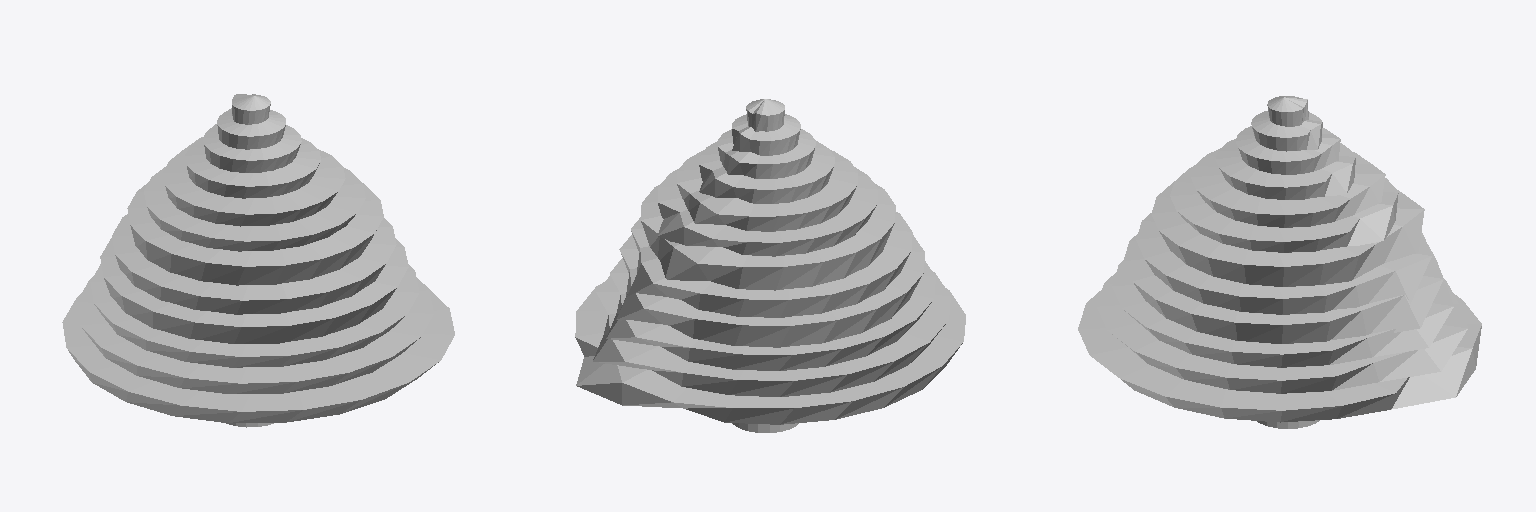
Rendered from tree2.obj.
The picture shows the model from 3 angles: view 1: azimuth 30°, elevation 25°; view 2: azimuth 150°, elevation 25°; view 3: azimuth 270°, elevation 25°; orthographic projection.
Visible parts, largest first — view 1: pCylinder1, pasted__pCylinder1 group, pasted__pasted__pasted__pCylinder1 pasted__pasted__group pasted_, pasted__pasted__pasted__pasted__pasted__pCylinder1 pasted__paste, pasted__pasted__pasted__pasted__pasted__pasted__pasted__pasted__, pasted__pasted__pasted__pasted__pCylinder1 pasted__pasted__paste, pasted__pasted__pCylinder1 pasted__group group1, pasted__pasted__pasted__pasted__pasted__pasted__pCylinder1 paste, pasted__pasted__pasted__pasted__pasted__pasted__pasted__pCylinde; view 2: pCylinder1, pasted__pCylinder1 group, pasted__pasted__pasted__pCylinder1 pasted__pasted__group pasted_, pasted__pasted__pasted__pasted__pasted__pasted__pasted__pasted__, pasted__pasted__pasted__pasted__pasted__pCylinder1 pasted__paste, pasted__pasted__pasted__pasted__pCylinder1 pasted__pasted__paste, pasted__pasted__pCylinder1 pasted__group group1, pasted__pasted__pasted__pasted__pasted__pasted__pCylinder1 paste, pasted__pasted__pasted__pasted__pasted__pasted__pasted__pCylinde; view 3: pCylinder1, pasted__pCylinder1 group, pasted__pasted__pasted__pCylinder1 pasted__pasted__group pasted_, pasted__pasted__pasted__pasted__pasted__pCylinder1 pasted__paste, pasted__pasted__pasted__pasted__pasted__pasted__pasted__pasted__, pasted__pasted__pasted__pasted__pCylinder1 pasted__pasted__paste, pasted__pasted__pCylinder1 pasted__group group1, pasted__pasted__pasted__pasted__pasted__pasted__pCylinder1 paste, pasted__pasted__pasted__pasted__pasted__pasted__pasted__pCylinde.
Boxes of the visible parts, x1,y1,x2,y2 form: pCylinder1: [62, 284, 454, 422]; pasted__pCylinder1 group: [76, 277, 433, 393]; pasted__pasted__pasted__pCylinder1 pasted__pasted__group pasted_: [100, 238, 408, 343]; pasted__pasted__pasted__pasted__pasted__pCylinder1 pasted__paste: [127, 182, 383, 285]; pasted__pasted__pasted__pasted__pasted__pasted__pasted__pasted__: [185, 94, 320, 198]; pasted__pasted__pasted__pasted__pCylinder1 pasted__pasted__paste: [112, 214, 396, 314]; pasted__pasted__pCylinder1 pasted__group group1: [90, 264, 419, 367]; pasted__pasted__pasted__pasted__pasted__pasted__pCylinder1 paste: [144, 167, 365, 251]; pasted__pasted__pasted__pasted__pasted__pasted__pasted__pCylinde: [163, 137, 345, 226]; pCylinder1: [575, 282, 965, 424]; pasted__pCylinder1 group: [593, 271, 950, 396]; pasted__pasted__pasted__pCylinder1 pasted__pasted__group pasted_: [616, 235, 924, 347]; pasted__pasted__pasted__pasted__pasted__pasted__pasted__pasted__: [699, 99, 834, 203]; pasted__pasted__pasted__pasted__pasted__pCylinder1 pasted__paste: [641, 182, 895, 290]; pasted__pasted__pasted__pasted__pCylinder1 pasted__pasted__paste: [627, 212, 912, 317]; pasted__pasted__pCylinder1 pasted__group group1: [606, 258, 935, 370]; pasted__pasted__pasted__pasted__pasted__pasted__pCylinder1 paste: [658, 167, 877, 256]; pasted__pasted__pasted__pasted__pasted__pasted__pasted__pCylinde: [677, 150, 857, 231]; pCylinder1: [1078, 290, 1481, 422]; pasted__pCylinder1 group: [1097, 273, 1467, 393]; pasted__pasted__pasted__pCylinder1 pasted__pasted__group pasted_: [1123, 234, 1443, 343]; pasted__pasted__pasted__pasted__pasted__pCylinder1 pasted__paste: [1151, 182, 1424, 286]; pasted__pasted__pasted__pasted__pasted__pasted__pasted__pasted__: [1215, 96, 1355, 199]; pasted__pasted__pasted__pasted__pCylinder1 pasted__pasted__paste: [1136, 213, 1431, 314]; pasted__pasted__pCylinder1 pasted__group group1: [1112, 261, 1453, 367]; pasted__pasted__pasted__pasted__pasted__pasted__pCylinder1 paste: [1170, 166, 1398, 252]; pasted__pasted__pasted__pasted__pasted__pasted__pasted__pCylinde: [1191, 149, 1385, 227].
Size of the model in its own units: 3.71 by 3.3 by 3.81.